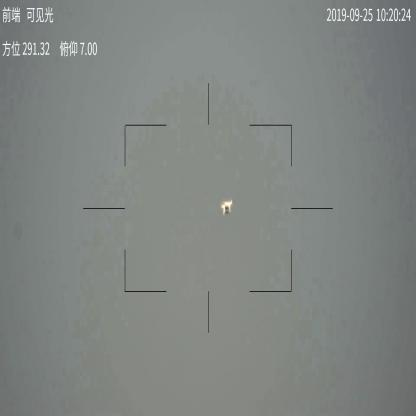uav: (218, 197, 234, 218)
